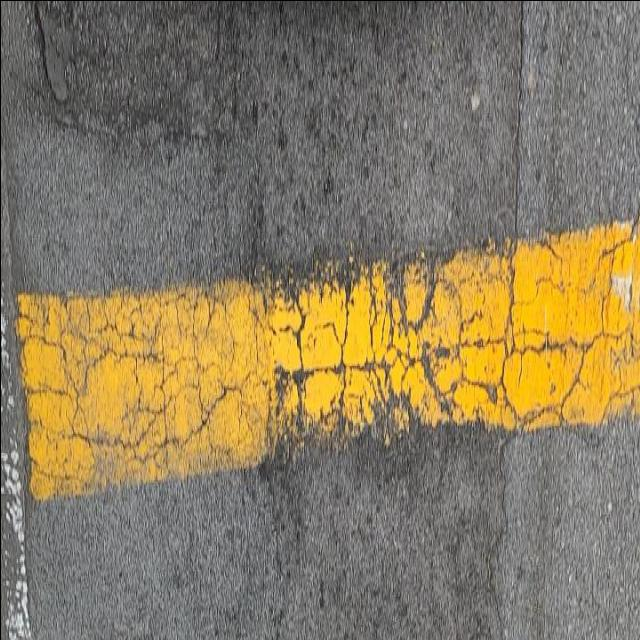cracks: (0, 226, 640, 477), (492, 1, 528, 230), (480, 480, 514, 640)
potholes: (8, 0, 100, 152)
